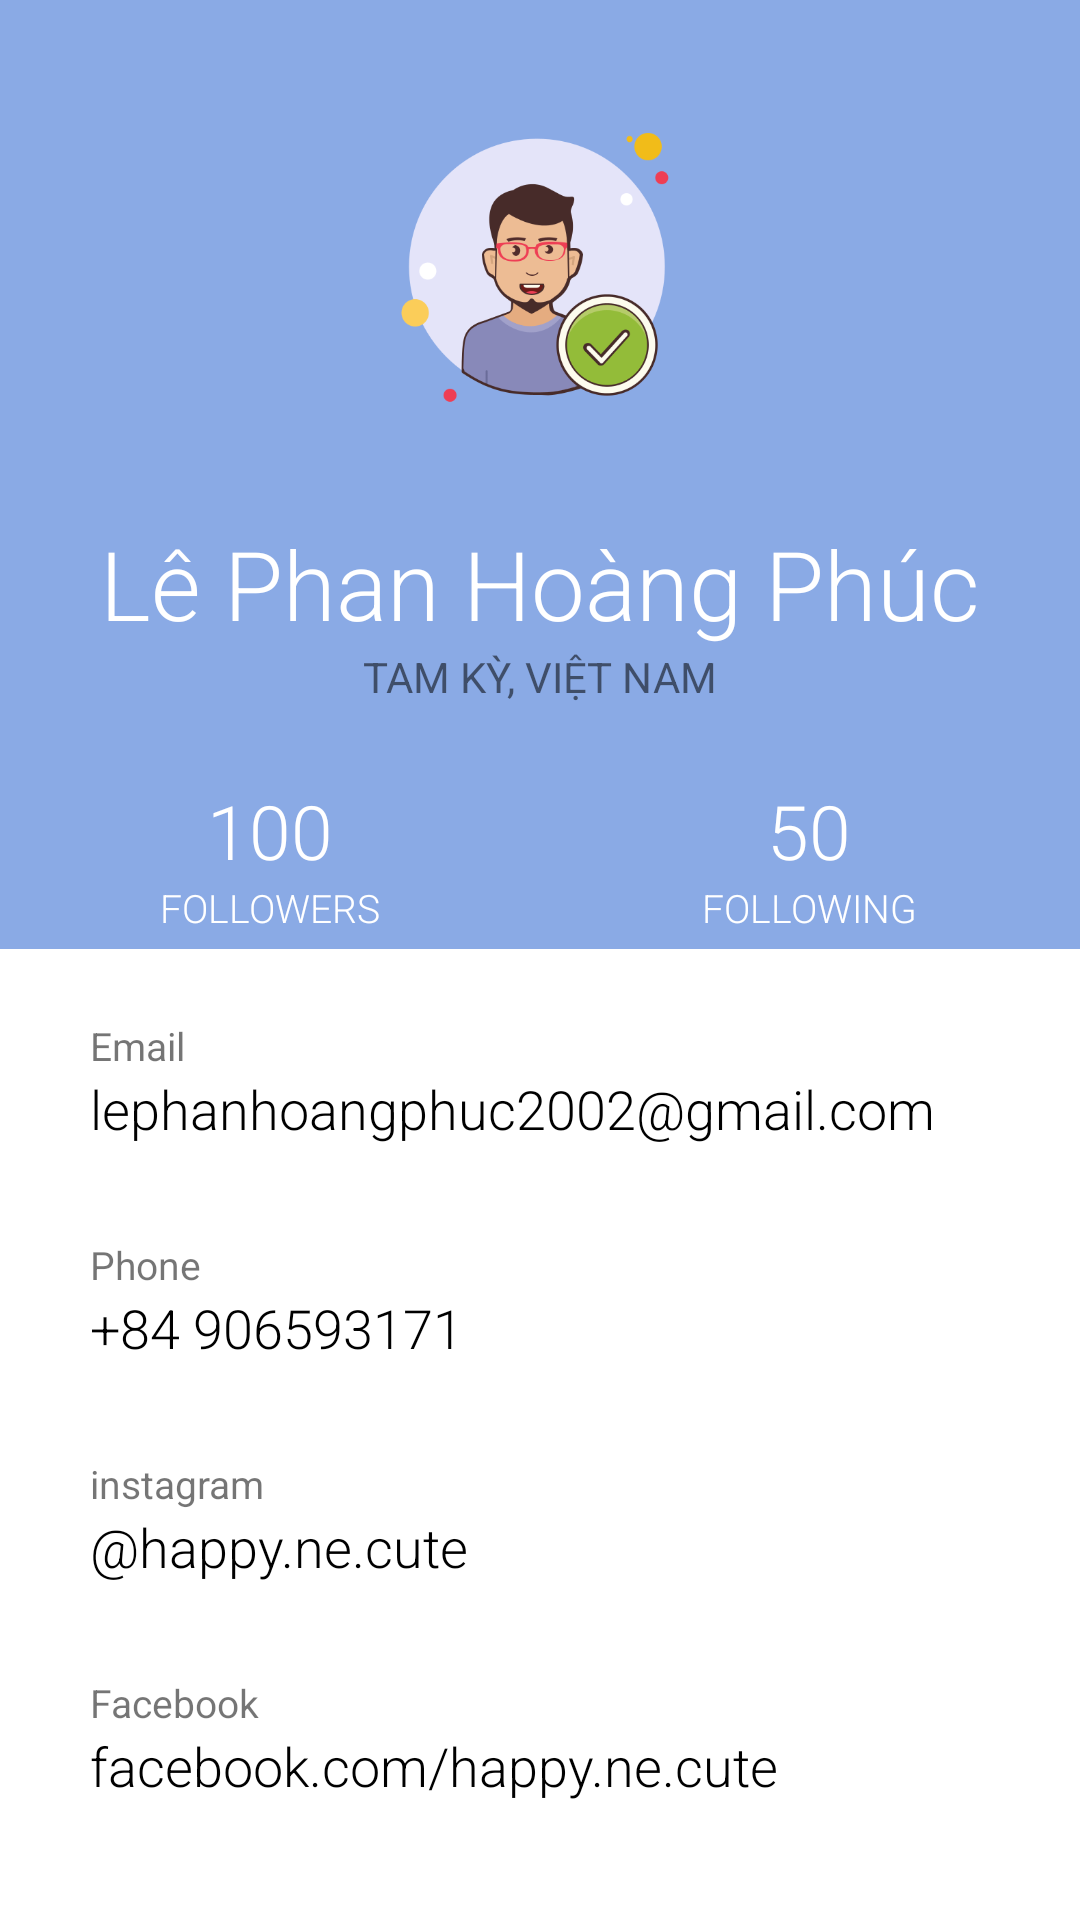

Icons on this 1080px x 1920px Android screen, each with its box as (x1, y1, x2, y2):
man: (401, 133, 669, 402)
